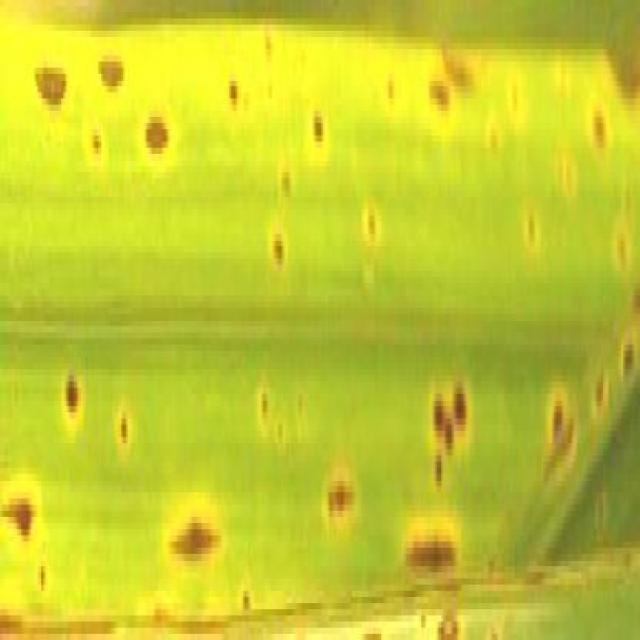Leaf_Blast: (412, 327, 472, 488), (165, 490, 238, 599), (27, 8, 73, 129), (546, 341, 574, 536), (136, 73, 176, 201), (402, 505, 461, 581), (321, 434, 373, 518), (449, 6, 486, 122), (587, 66, 615, 212), (258, 340, 287, 472), (614, 1, 640, 145), (259, 0, 287, 128), (94, 16, 132, 107), (62, 317, 89, 441), (2, 466, 46, 540), (378, 34, 402, 166), (420, 6, 446, 125), (285, 346, 310, 468), (279, 342, 301, 473), (112, 357, 132, 498), (273, 339, 292, 476), (525, 179, 547, 293), (589, 327, 611, 436), (482, 506, 506, 605), (549, 34, 573, 129), (505, 57, 529, 152), (612, 194, 634, 297), (483, 534, 506, 632), (270, 185, 290, 292), (357, 179, 381, 266), (624, 0, 640, 129), (560, 136, 582, 227), (85, 97, 106, 189), (310, 71, 328, 178), (229, 38, 248, 136), (140, 581, 171, 640), (620, 533, 640, 618), (484, 96, 505, 176), (234, 564, 256, 640), (437, 581, 465, 640), (356, 592, 390, 640), (618, 316, 639, 390), (266, 606, 308, 640), (0, 592, 26, 639), (171, 620, 232, 640), (288, 600, 318, 640), (64, 621, 121, 640), (411, 589, 432, 640), (134, 614, 168, 640), (485, 598, 506, 640), (34, 542, 49, 600), (26, 626, 68, 640)
